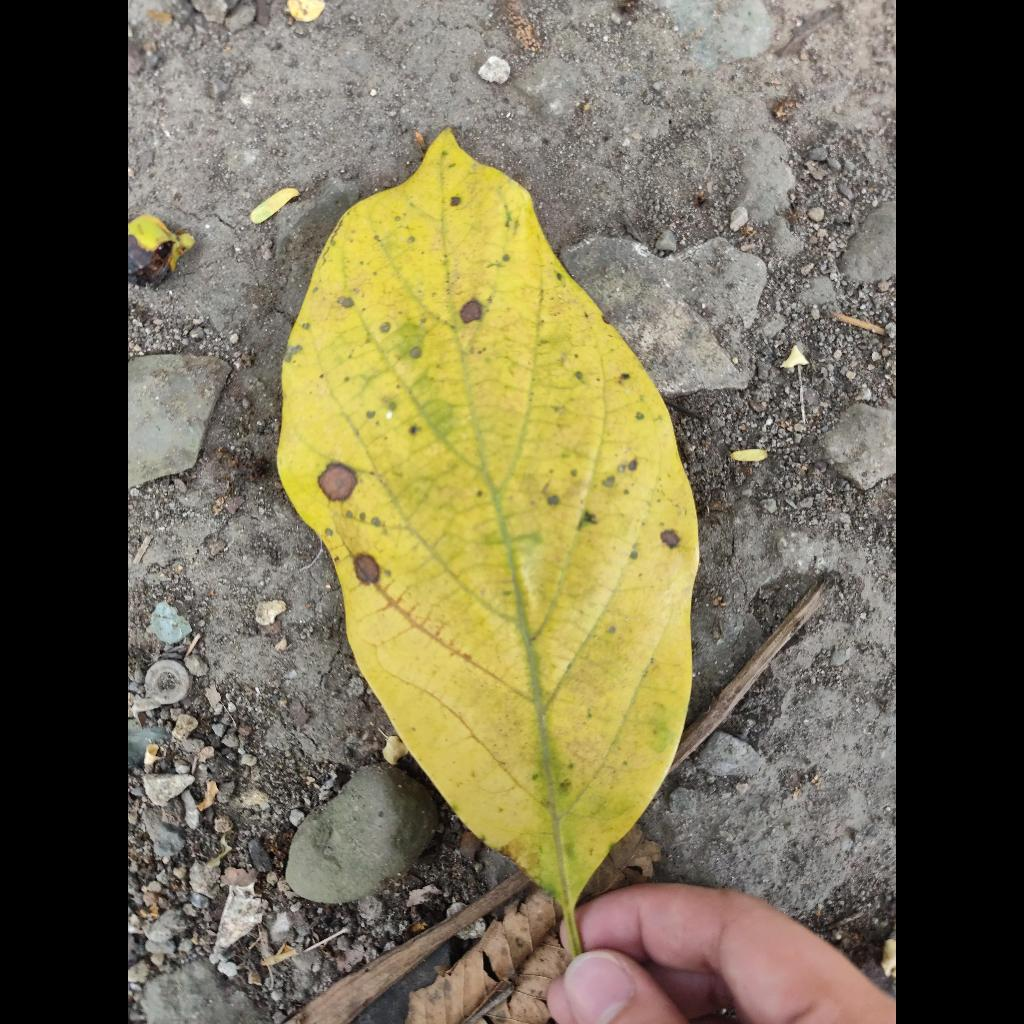deficiencia_nutricional: (278, 130, 698, 934)
